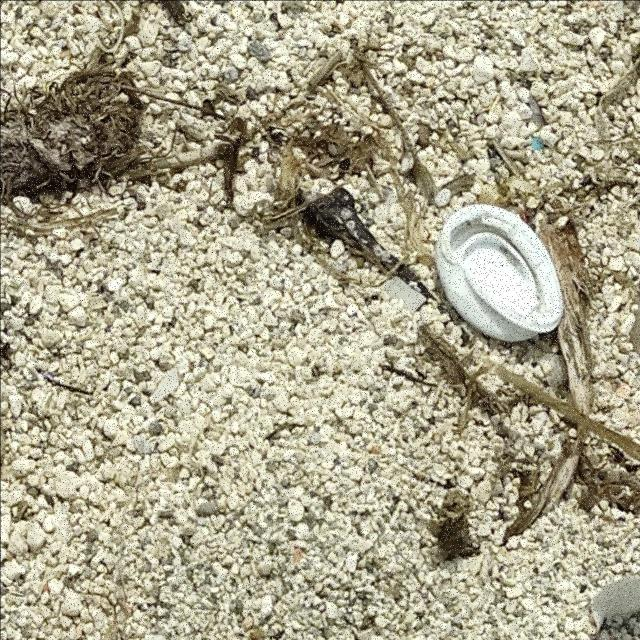plastic_waste: (436, 203, 565, 343)
